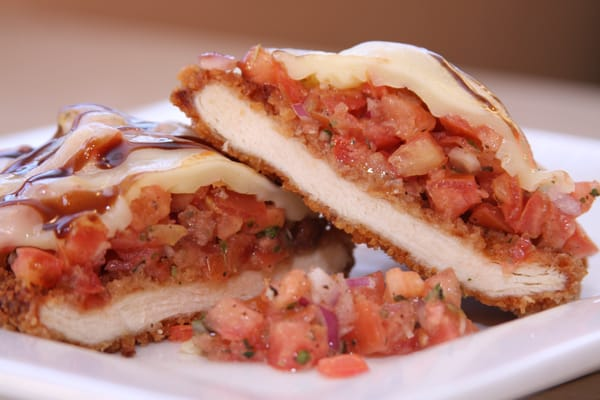soup: (170, 43, 598, 323)
